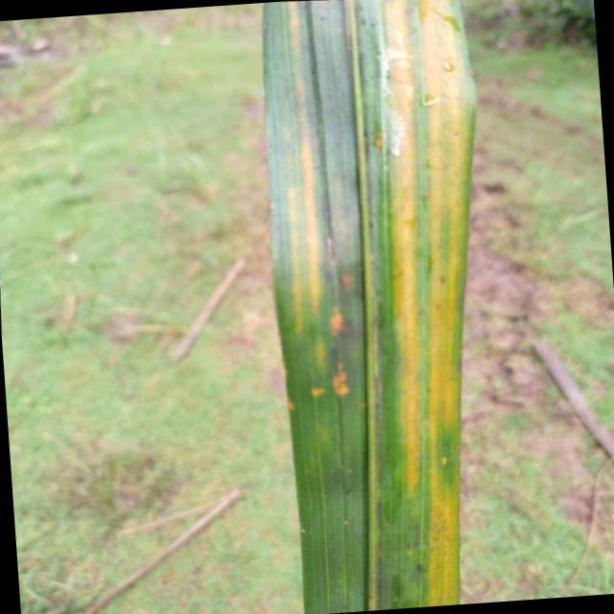Megnesium: (257, 0, 480, 614)
